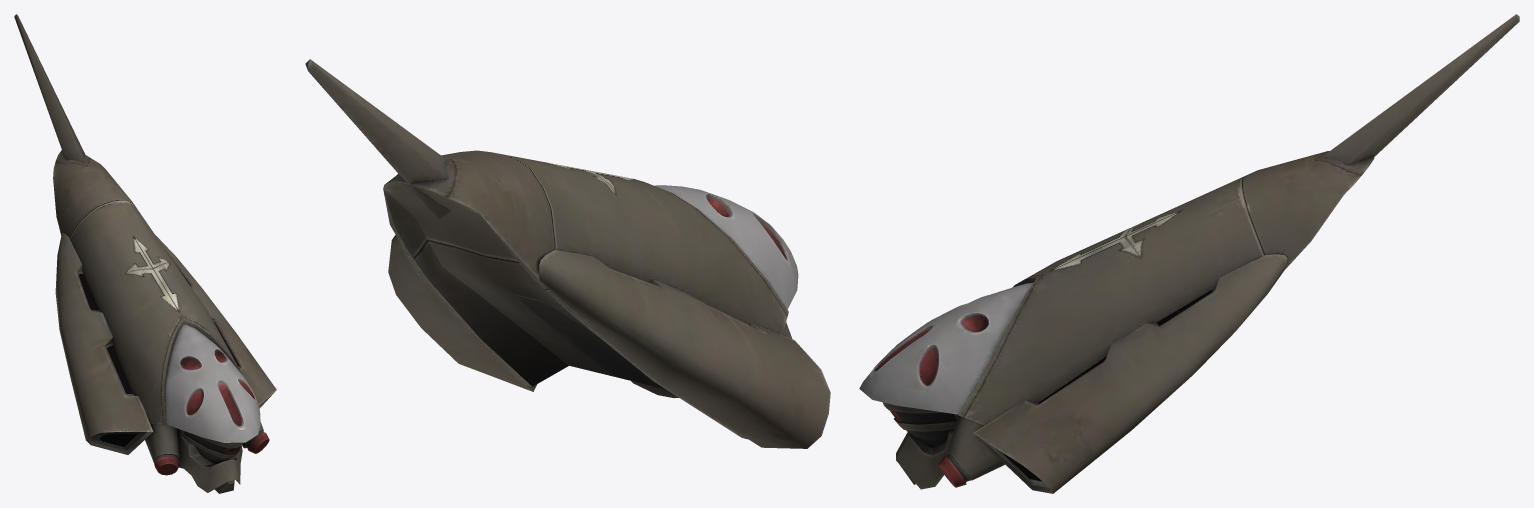
The picture shows the model from 3 angles, left to right: view 1: azimuth 30°, elevation 25°; view 2: azimuth 150°, elevation 25°; view 3: azimuth 270°, elevation 25°; orthographic projection. The views are drawn at different scales.
Parts seen in each view (by area): view 1: c15_100_00 head; view 2: c15_100_00 head; view 3: c15_100_00 head.
Part boxes in pixels (x1,y1,x2,y2): c15_100_00 head: (14, 14, 276, 493); c15_100_00 head: (305, 59, 830, 448); c15_100_00 head: (859, 14, 1519, 493).
Bounding box in the file's own units: 1.71 × 2.85 × 3.66.
Materials: 1 (1 with a texture image).
